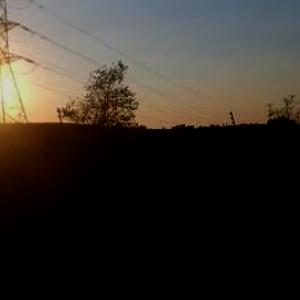follow: (105, 134, 183, 299)
